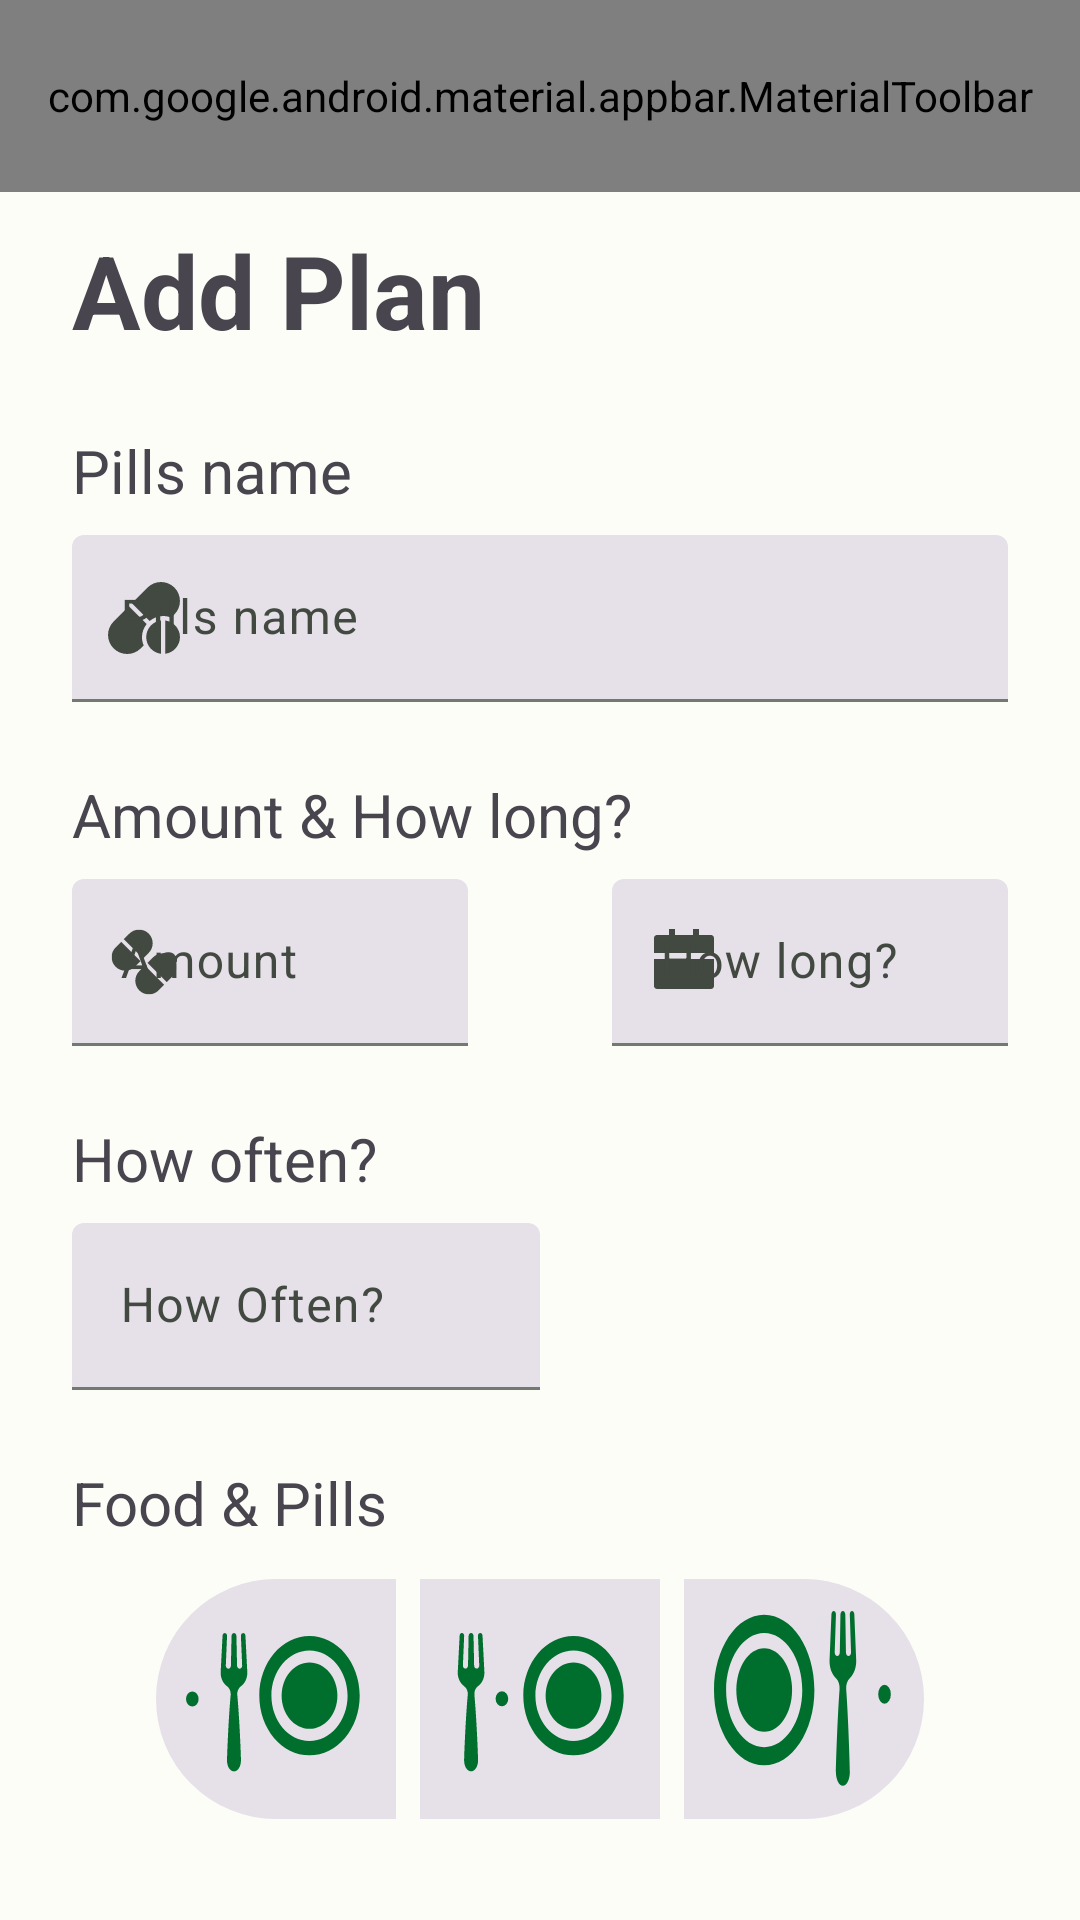

Named icons in this screenshot (1080 x 1920) and their bounding boxes, detection(x1, y1, x2, y2):
after meal: detection(684, 1579, 924, 1819)
before meals: detection(156, 1579, 396, 1819)
during meals: detection(420, 1579, 660, 1819)
